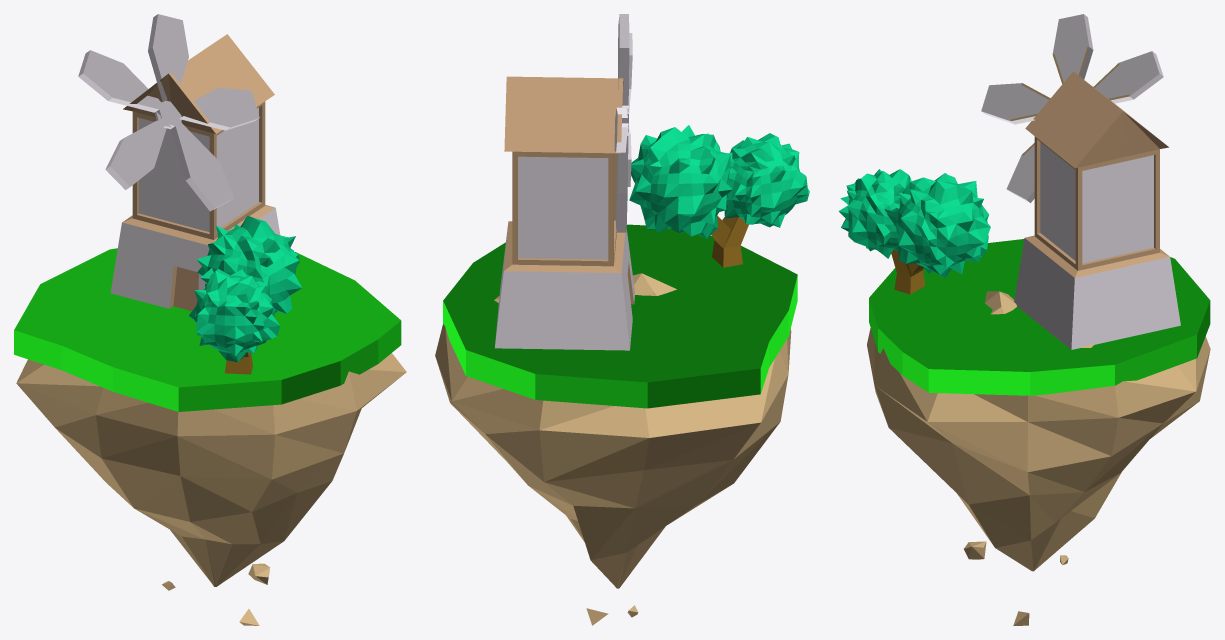
File: low-poly-mill.glb
3 renders of one model, left to right at view 1: azimuth 30°, elevation 25°; view 2: azimuth 150°, elevation 25°; view 3: azimuth 270°, elevation 25°, orthographic. The views are drawn at different scales.
Parts seen in each view (by area): view 1: Island, Green_platform, Mill, propeller, Tree; view 2: Island, Green_platform, Mill, Tree, propeller; view 3: Island, Mill, Green_platform, Tree, propeller.
Boxes of the visible parts, x1,y1,x2,y2 form: Island: (16,353,406,625); Green_platform: (14,248,401,411); Mill: (110,34,280,310); propeller: (78,14,259,211); Tree: (189,215,301,374); Island: (435,273,791,625); Green_platform: (443,224,797,408); Mill: (495,76,634,350); Tree: (629,125,809,267); propeller: (614,14,632,232); Island: (867,291,1210,625); Mill: (1014,71,1180,349); Green_platform: (869,239,1210,395); Tree: (838,169,990,294); propeller: (981,14,1163,202).
Size of the model in its own units: 105 by 195 by 113.
